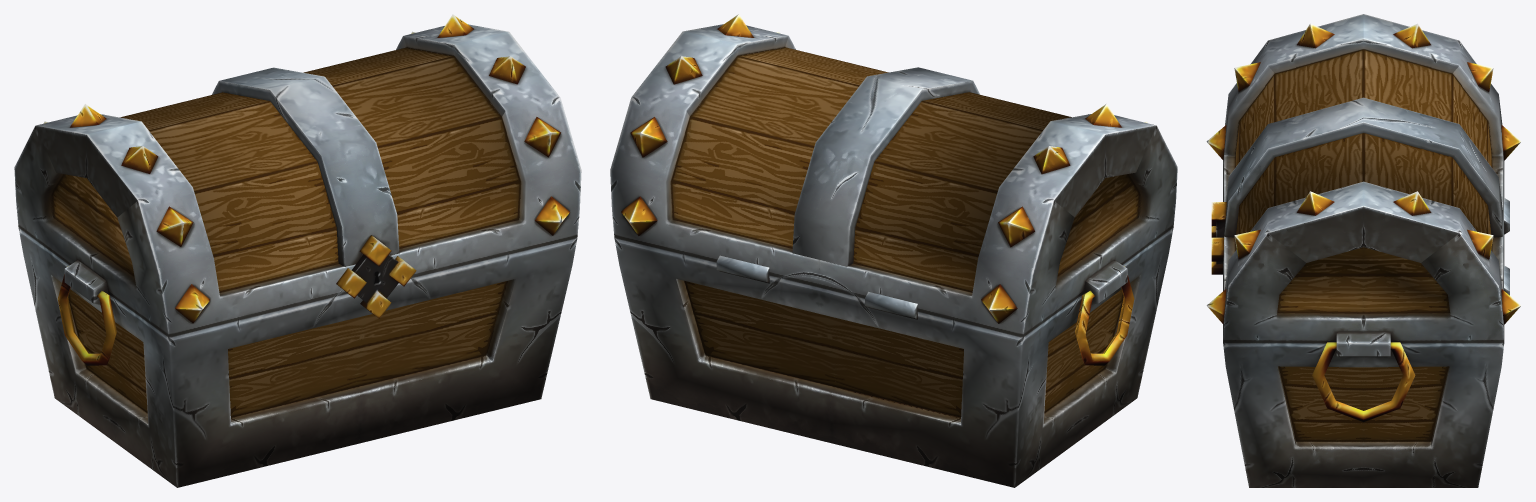
The model's file is Chest.dae.
The picture shows the model from 3 angles, left to right: view 1: azimuth 30°, elevation 25°; view 2: azimuth 150°, elevation 25°; view 3: azimuth 270°, elevation 25°; orthographic projection. The views are drawn at different scales.
Visible parts, largest first — view 1: Chest; view 2: Chest; view 3: Chest.
Boxes of the visible parts, x1,y1,x2,y2 form: Chest: (14,14,581,487); Chest: (610,14,1177,487); Chest: (1206,14,1521,487).
Bounding box in the file's own units: 0.829 × 0.5532 × 0.5765.
1 material, 1 textured.
